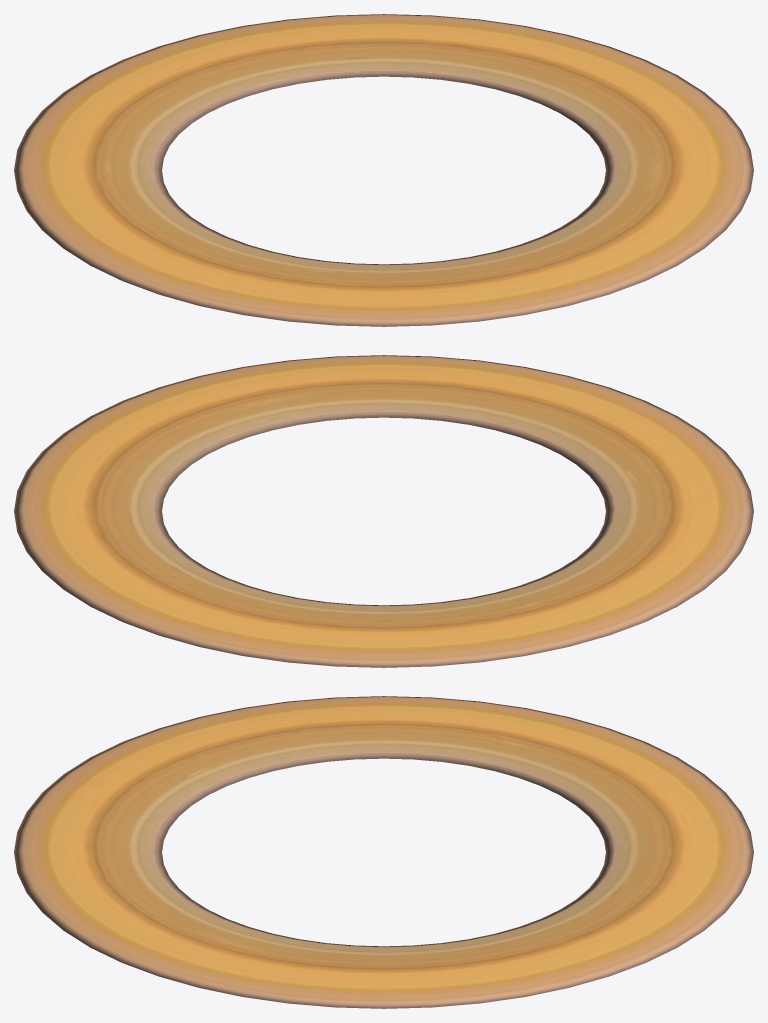
Rendered from saturn-cycle.obj.
3 renders of one model, top to bottom at view 1: azimuth 30°, elevation 25°; view 2: azimuth 150°, elevation 25°; view 3: azimuth 270°, elevation 25°, orthographic.
Parts seen in each view (by area): view 1: Тор; view 2: Тор; view 3: Тор.
Boxes of the visible parts, <box> form: Тор: <box>14,14,753,326</box>; Тор: <box>14,355,753,667</box>; Тор: <box>14,696,753,1008</box>.
Size of the model in its own units: 2.5 by 0.0445 by 2.5.
